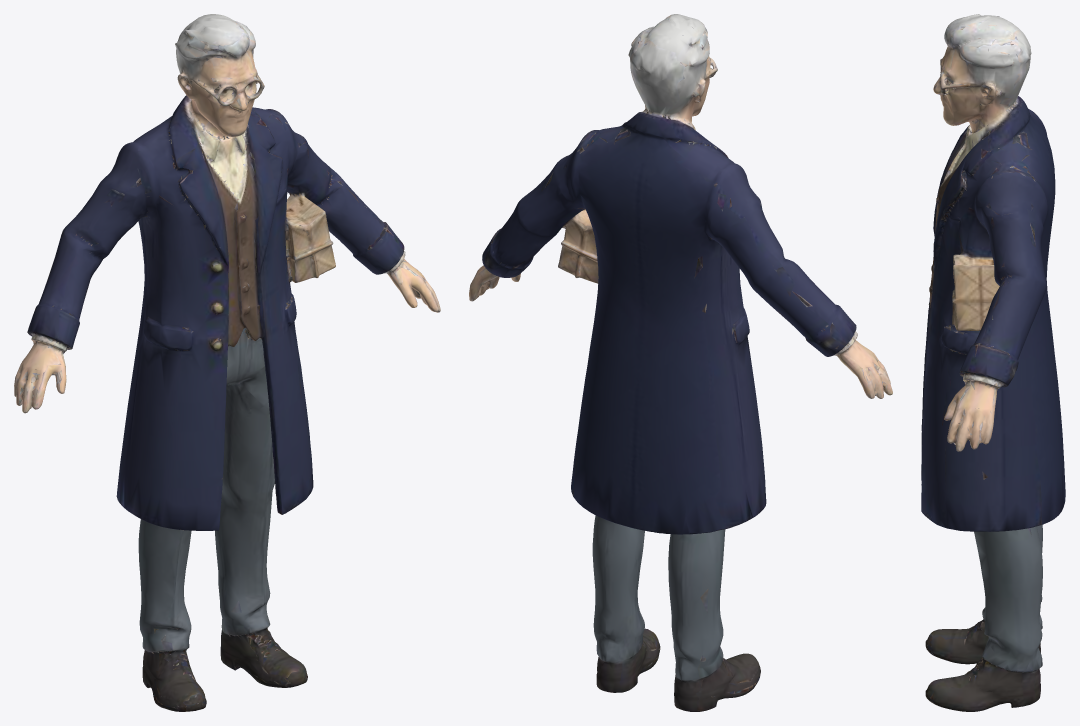
Rendered from npc_frank.glb.
3 renders of one model, left to right at view 1: azimuth 30°, elevation 25°; view 2: azimuth 150°, elevation 25°; view 3: azimuth 270°, elevation 25°, orthographic.
Parts seen in each view (by area): view 1: Mesh_0; view 2: Mesh_0; view 3: Mesh_0.
Part boxes in pixels (x1=…): Mesh_0: x1=14, y1=14, x2=440, y2=711; Mesh_0: x1=469, y1=14, x2=892, y2=711; Mesh_0: x1=921, y1=14, x2=1065, y2=711.
Bounding box in the file's own units: 1.25 × 1.91 × 0.3777.
1 material, 1 textured.
